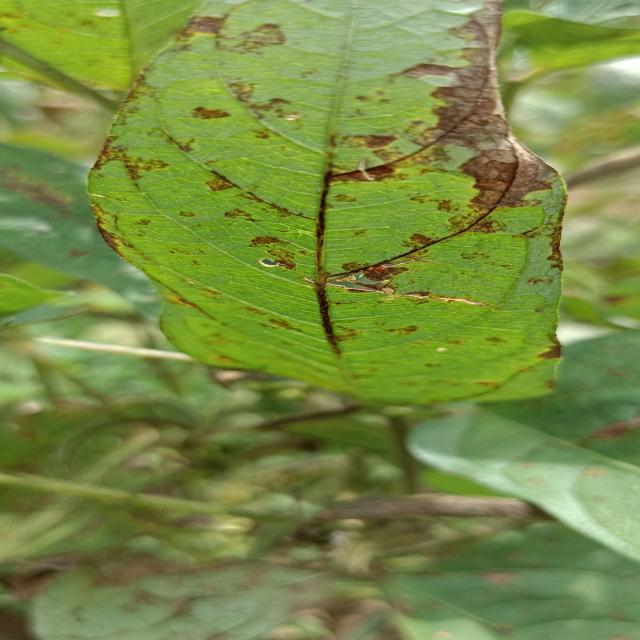Black gram_leaf spot: (81, 0, 582, 417)
